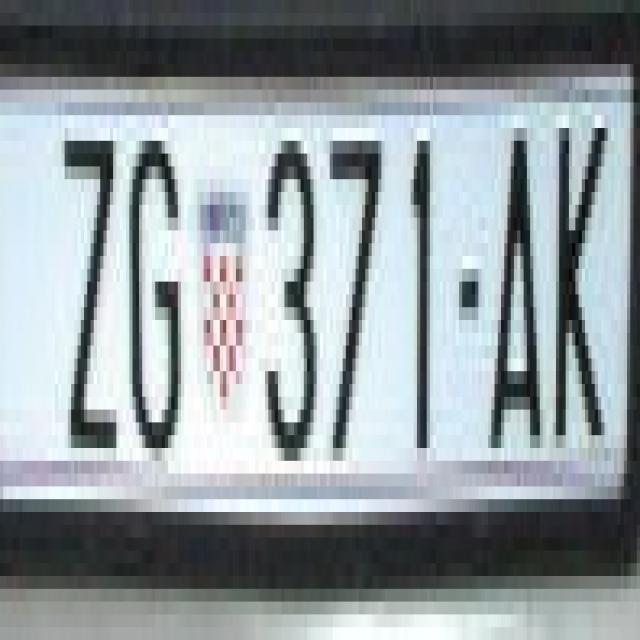1: (404, 115, 436, 461)
3: (258, 128, 316, 461)
7: (323, 115, 378, 461)
A: (482, 115, 540, 448)
G: (126, 115, 181, 474)
K: (549, 90, 611, 460)
Z: (62, 128, 116, 461)
